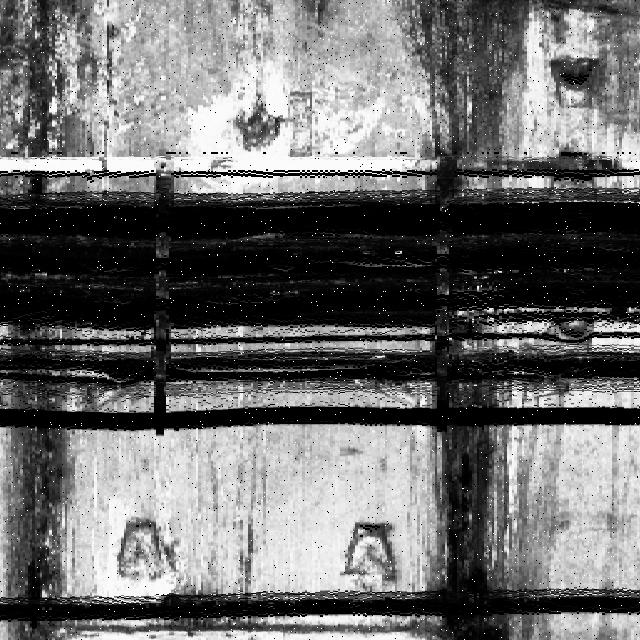leakage: (410, 321, 560, 639), (1, 317, 86, 637), (389, 0, 530, 192), (0, 0, 115, 186)
